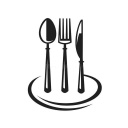fork: (54, 9, 73, 92)
